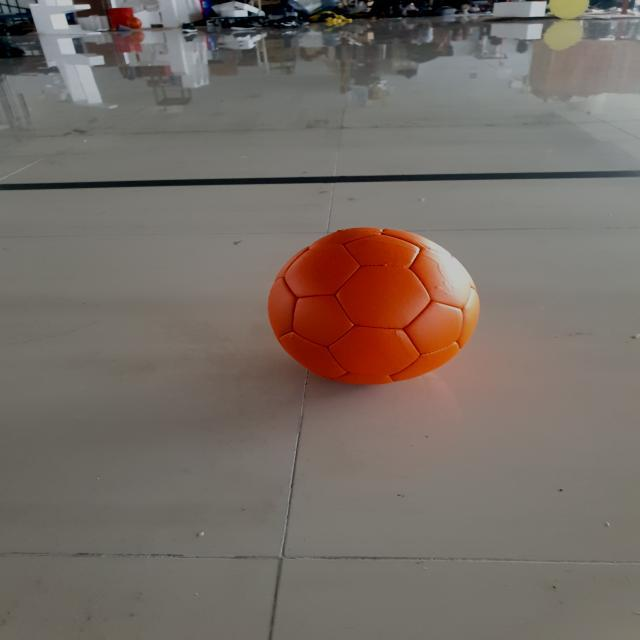bola: (264, 222, 490, 396)
